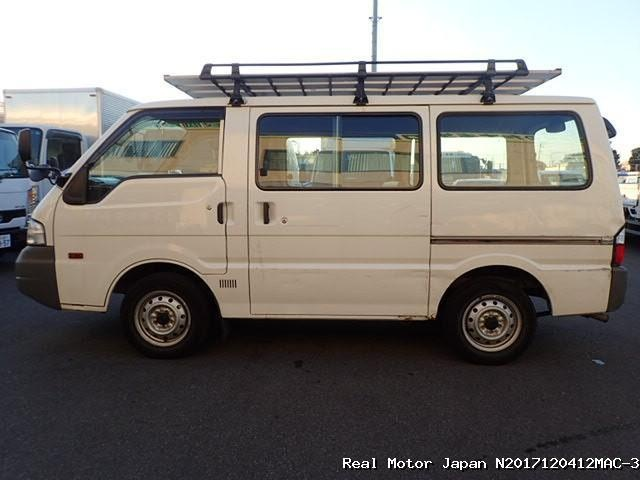van: (27, 69, 626, 357)
